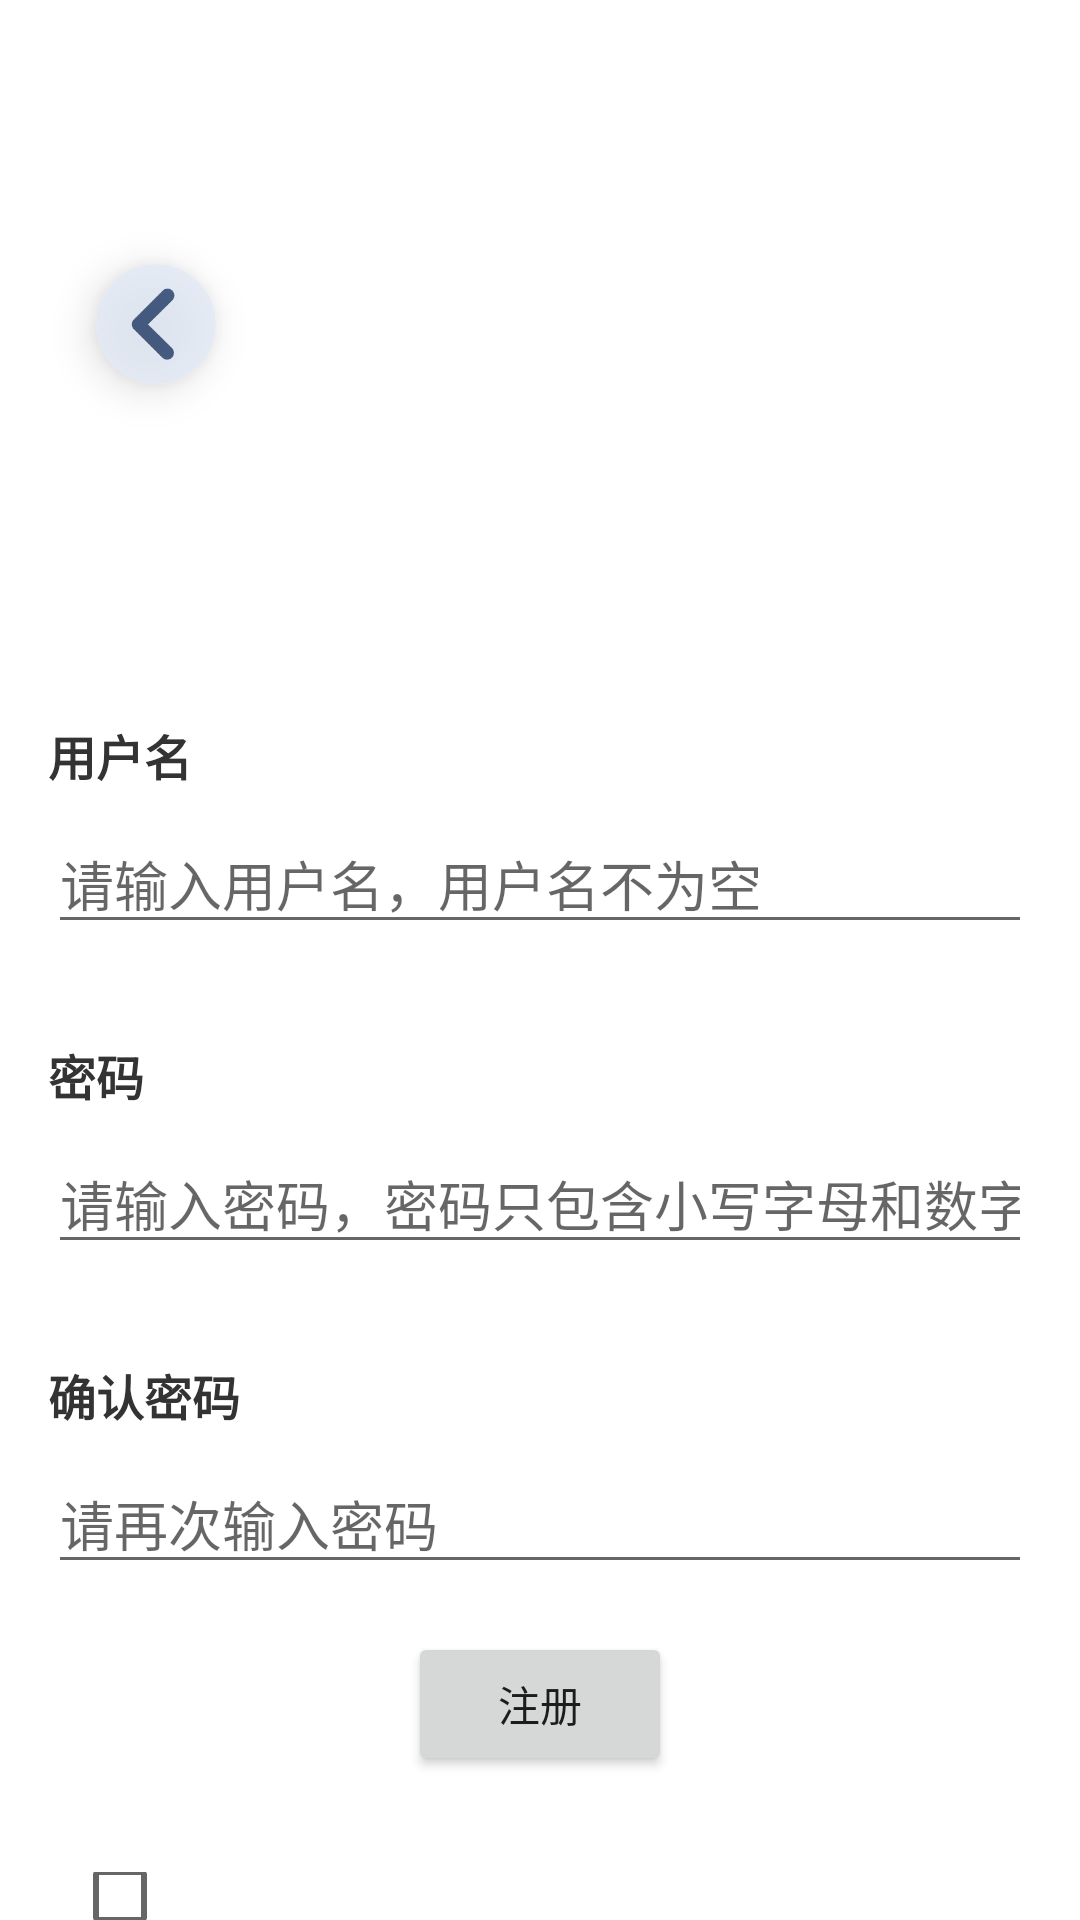

Icon click points for this 1080 x 1920 phone screenshot, format (x=x, y=y):
backbutton: (x=149, y=329)
